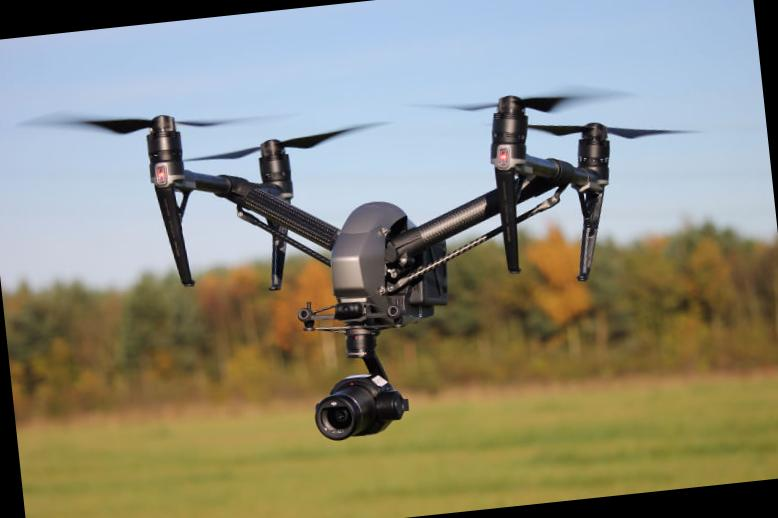drone: (40, 44, 712, 330)
